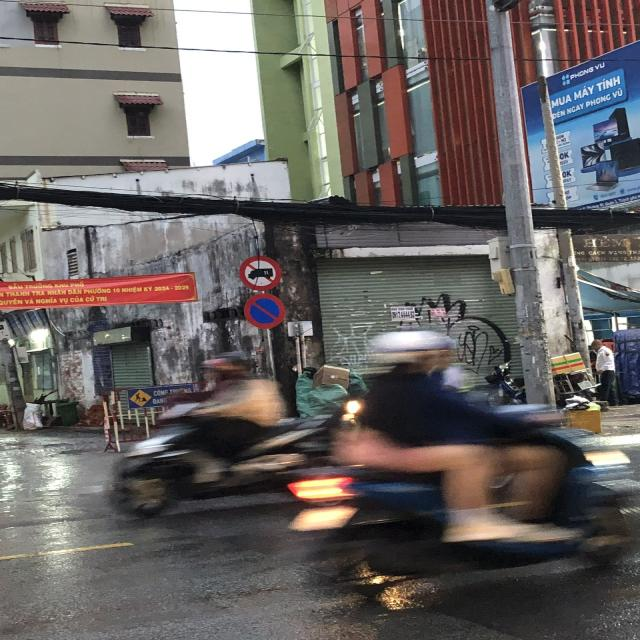Bien bao cam do xe: (242, 292, 292, 330)
Bien bao cam xe oto tai: (235, 253, 286, 293)
